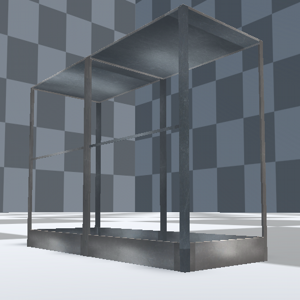Rack: (26, 1, 268, 274)
